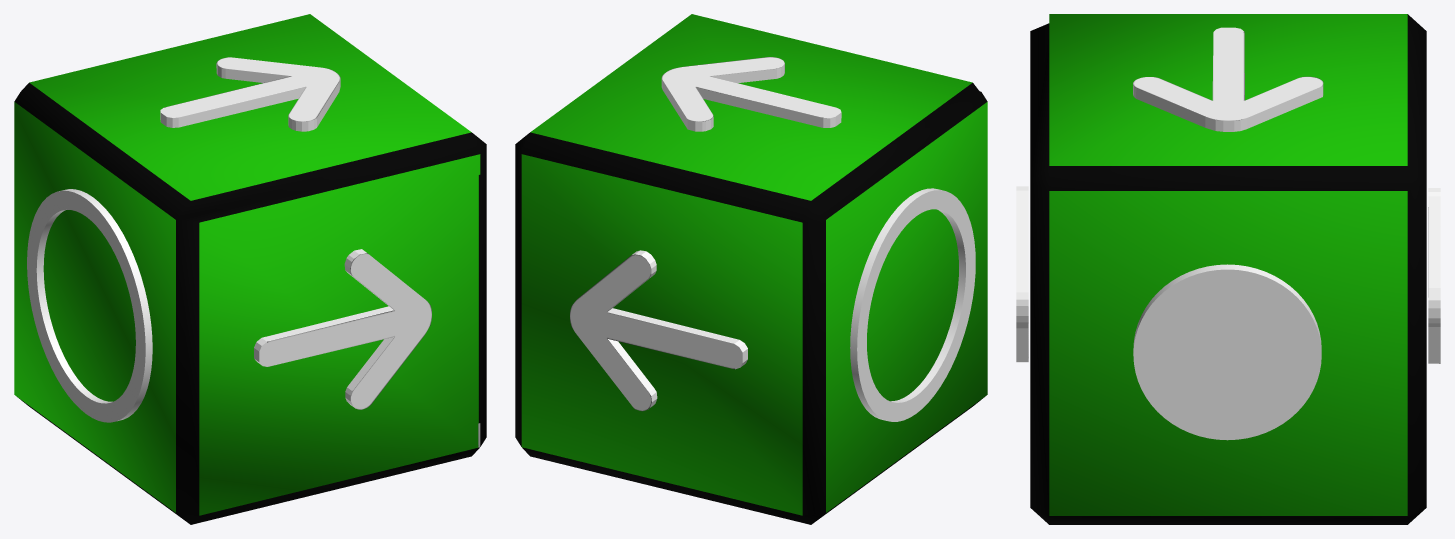
Rendered from BigBoxTapFlowBox_1_1_1_Line_test.fbx.
The picture shows the model from 3 angles, left to right: view 1: azimuth 30°, elevation 25°; view 2: azimuth 150°, elevation 25°; view 3: azimuth 270°, elevation 25°; orthographic projection. The views are drawn at different scales.
Visible parts, largest first — view 1: BigBoxTapFlowBox_1_1_1_Line_test; view 2: BigBoxTapFlowBox_1_1_1_Line_test; view 3: BigBoxTapFlowBox_1_1_1_Line_test.
Part boxes in pixels (<box>): BigBoxTapFlowBox_1_1_1_Line_test: <box>14,14,486,524</box>; BigBoxTapFlowBox_1_1_1_Line_test: <box>515,14,987,524</box>; BigBoxTapFlowBox_1_1_1_Line_test: <box>1016,14,1440,524</box>.
Size of the model in its own units: 1.11 by 1.14 by 1.12.
1 material, 1 textured.
